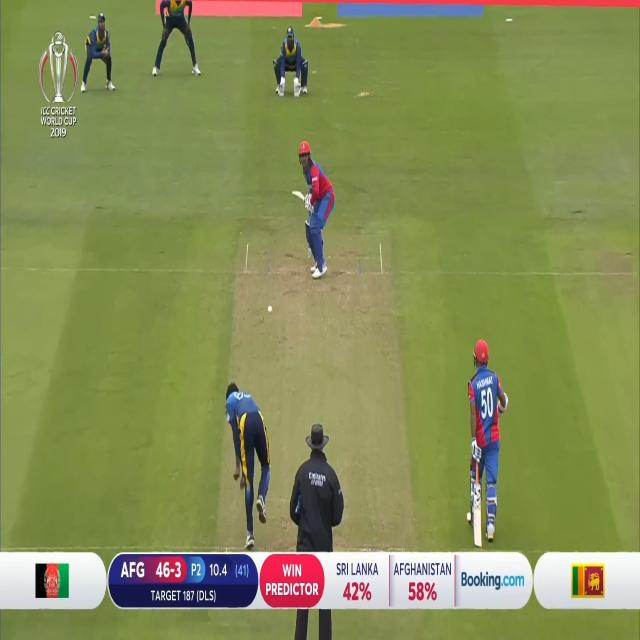ball: (266, 302, 277, 316)
